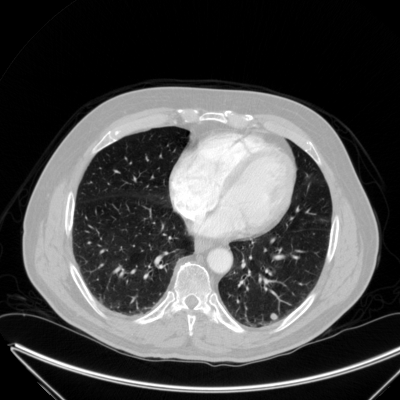nodule: (270, 312, 278, 320)
